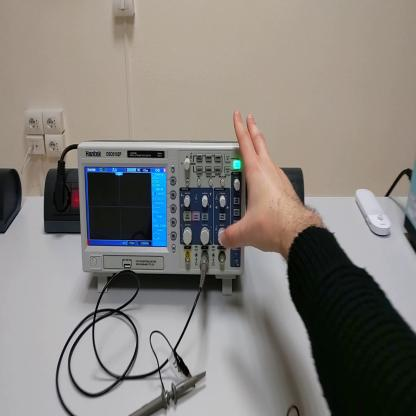hand: (218, 110, 299, 257)
oscilloscope: (77, 140, 248, 298)
oscilloscope probe tip: (131, 367, 207, 414)
socket: (41, 171, 81, 235), (1, 168, 25, 233)
welder station: (404, 146, 416, 253)
